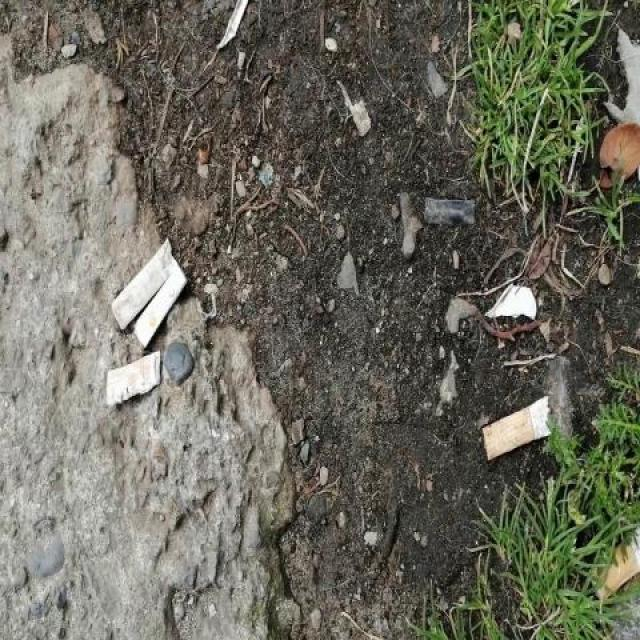non-organic waste: (110, 234, 174, 330), (478, 391, 553, 464), (131, 260, 188, 349), (100, 349, 172, 410), (586, 530, 639, 606)
